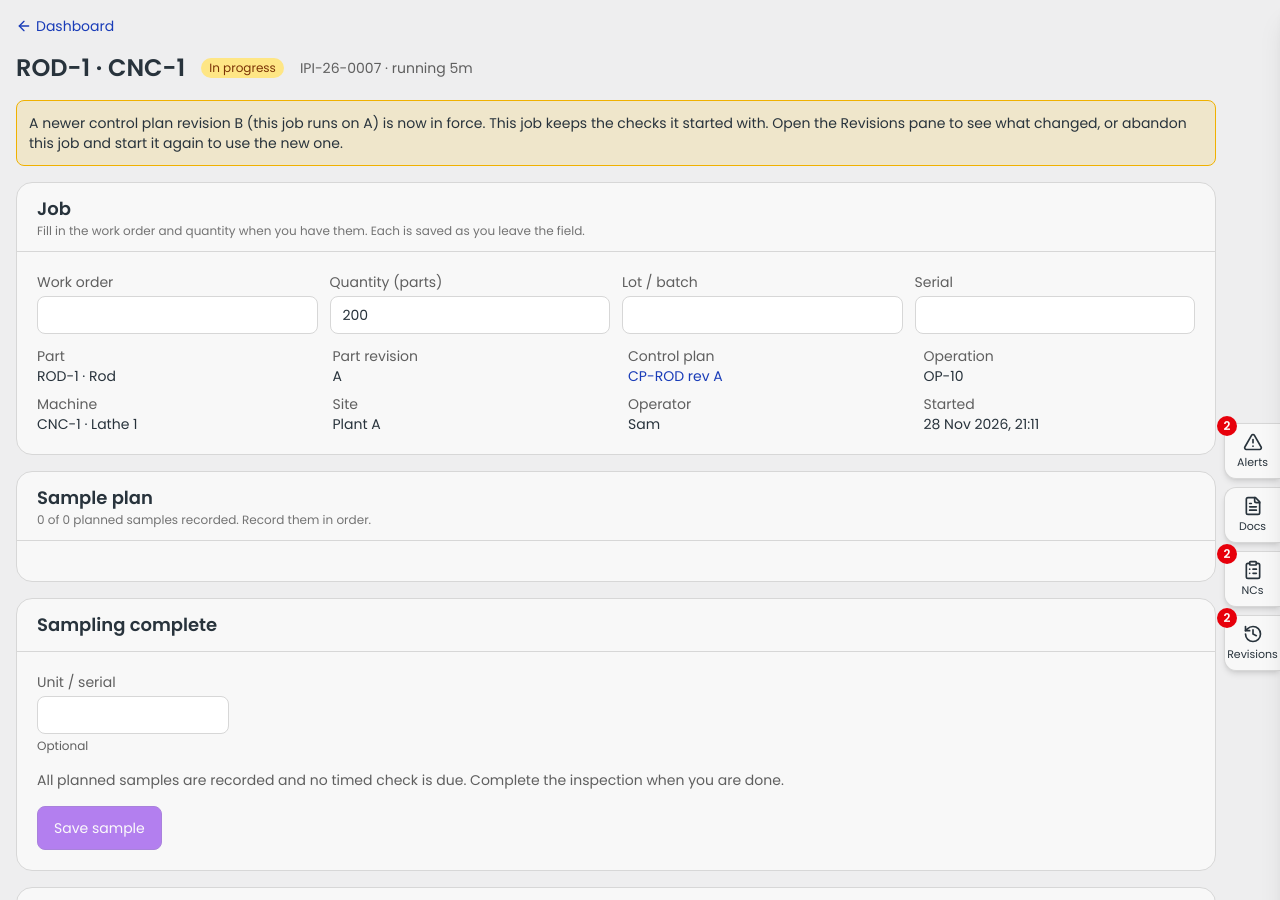
Test case: the revisions pane and the newer-revision banner › flags new revisions, says which are in force and which one this job runs on
Click the button "Revisions 2".
click(1252, 643)  # box [1224,615,1279,671]
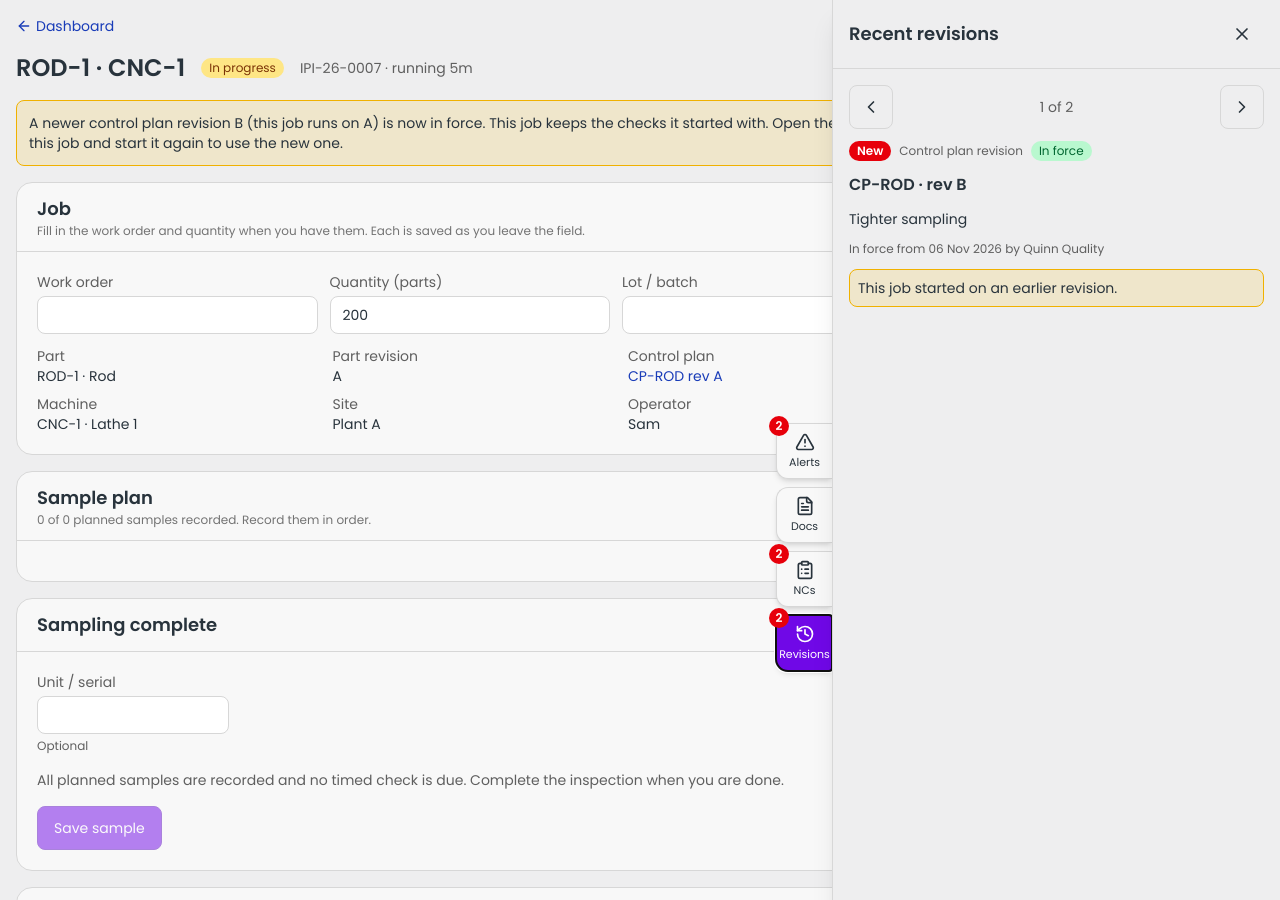
Now the text "New" is shown, box [849,141,891,161]
Now the heading "CP-ROD · rev B" is shown, box [849,173,967,196]
Now the text "Tighter sampling" is shown, box [849,209,967,229]
Click the button named "Next revision".
click(1242, 107)  # box [1220,85,1264,129]
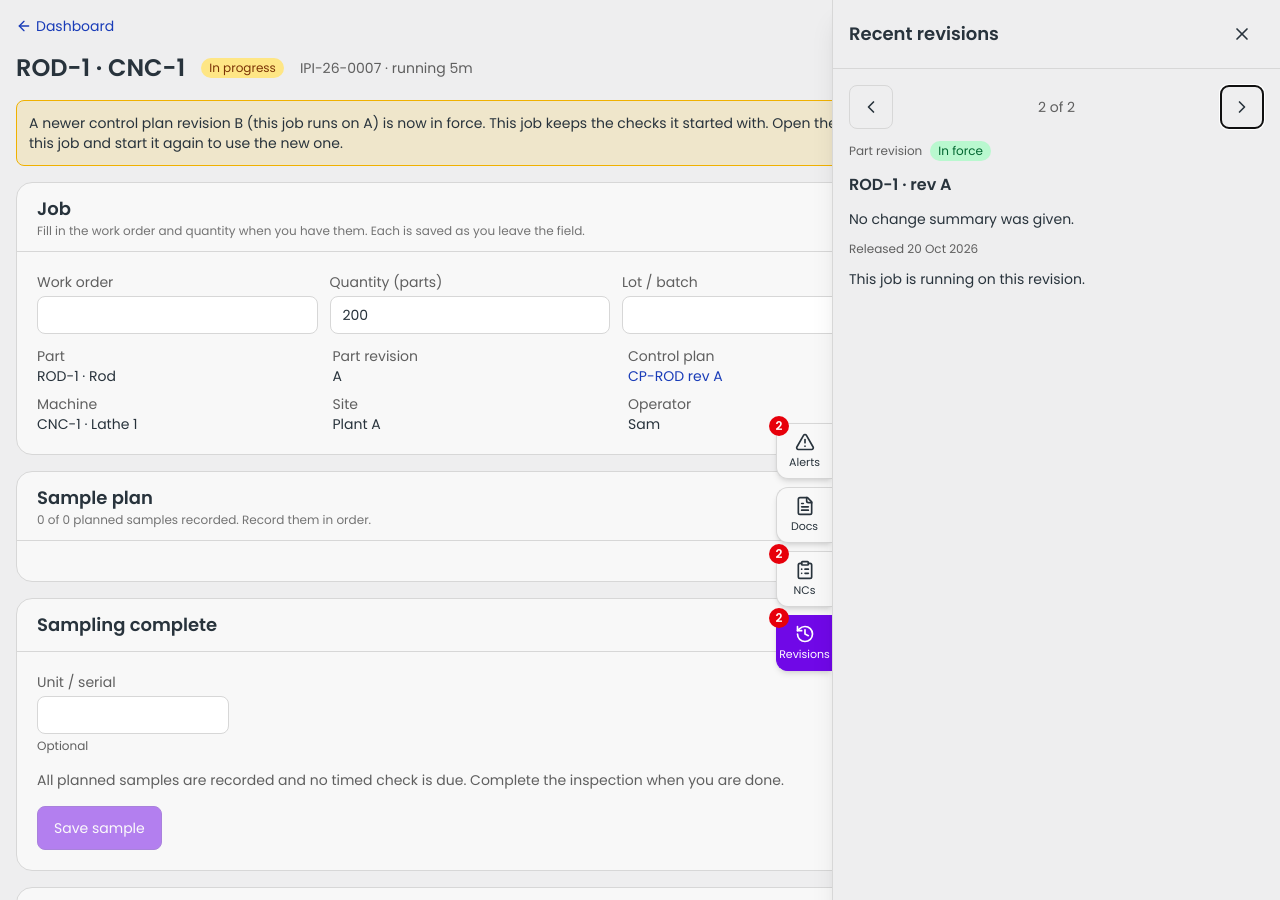
Now the heading "ROD-1 · rev A" is shown, box [849,173,952,196]
Now the text "No change summary was given." is shown, box [849,209,1074,229]
Now the text "This job is running on this revision." is shown, box [849,269,1085,289]
